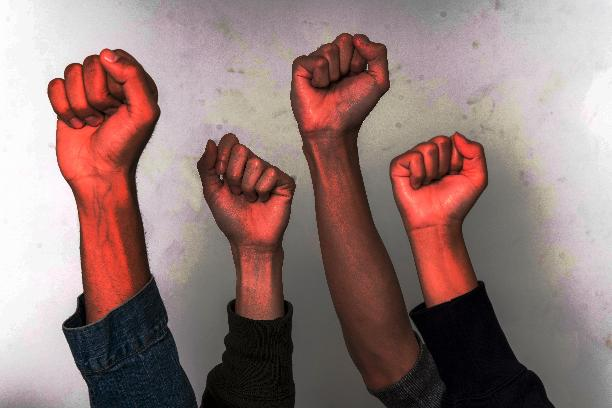Rock: (41, 40, 165, 189), (188, 121, 300, 248), (281, 31, 394, 139), (382, 128, 497, 229)
